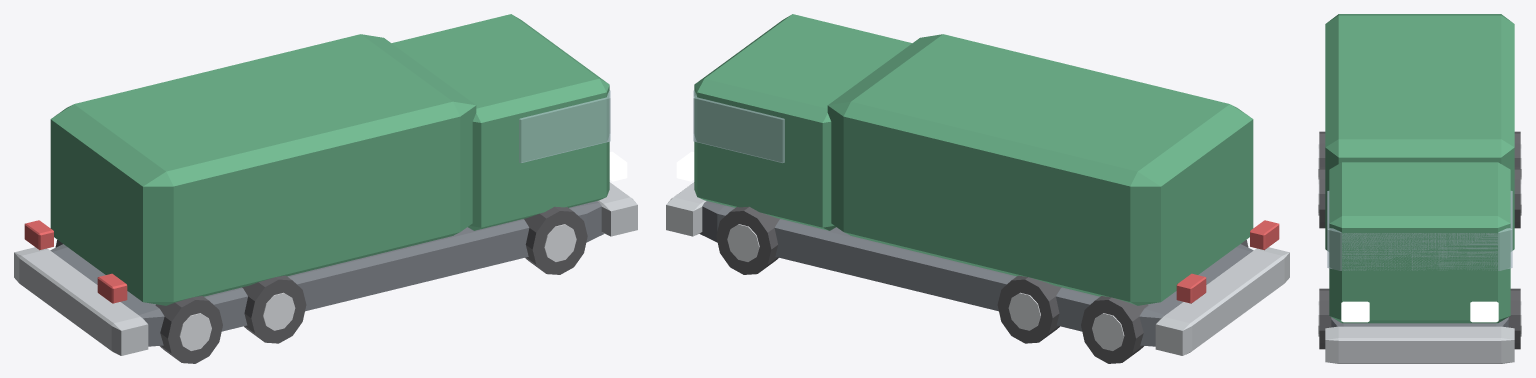
Rendered from b15_automated_side_loader_refuse_truck.glb.
3 renders of one model, left to right at view 1: azimuth 30°, elevation 25°; view 2: azimuth 150°, elevation 25°; view 3: azimuth 270°, elevation 25°, orthographic. The views are drawn at different scales.
Visible parts, largest first — view 1: b15_automated_side_loader_refuse_truck; view 2: b15_automated_side_loader_refuse_truck; view 3: b15_automated_side_loader_refuse_truck.
Boxes of the visible parts, x1=… form: b15_automated_side_loader_refuse_truck: x1=14, y1=14, x2=637, y2=363; b15_automated_side_loader_refuse_truck: x1=666, y1=14, x2=1289, y2=363; b15_automated_side_loader_refuse_truck: x1=1318, y1=14, x2=1521, y2=363.
Size of the model in its own units: 9.83 by 3.4 by 3.77.
